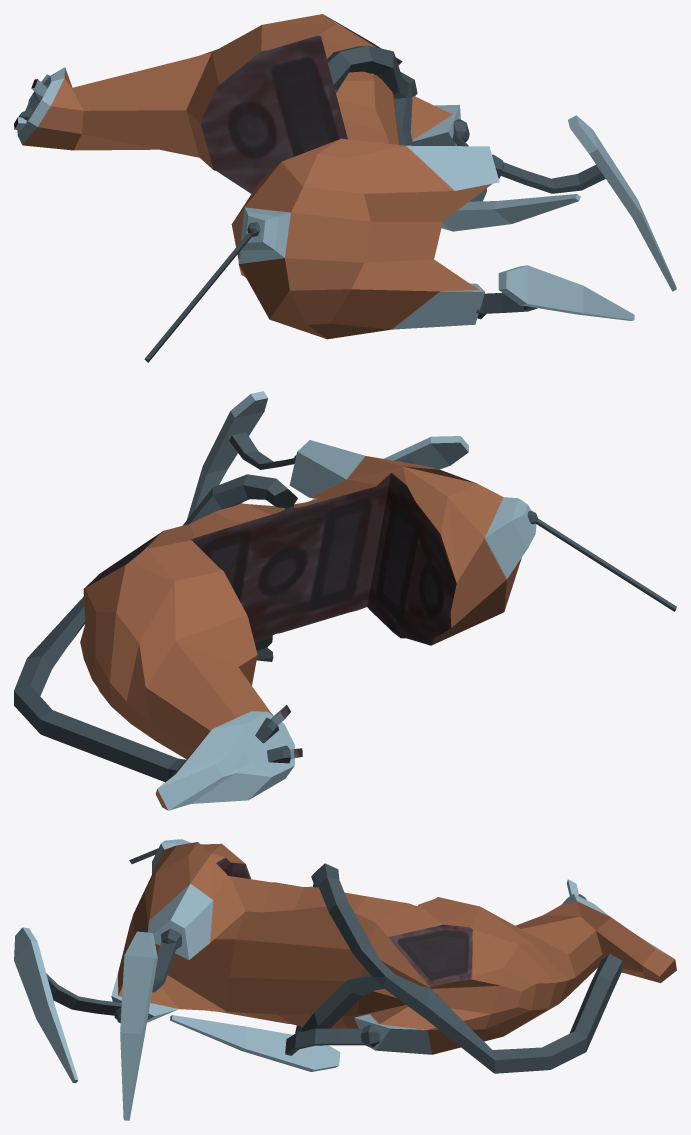
The model's file is Deer-dead-gutted.fbx.
The picture shows the model from 3 angles, top to bottom: view 1: azimuth 30°, elevation 25°; view 2: azimuth 150°, elevation 25°; view 3: azimuth 270°, elevation 25°; orthographic projection. The views are drawn at different scales.
Parts seen in each view (by area): view 1: Deer Dead Body; view 2: Deer Dead Body; view 3: Deer Dead Body.
Boxes of the visible parts, x1,y1,x2,y2 form: Deer Dead Body: (14, 14, 676, 362); Deer Dead Body: (14, 391, 676, 810); Deer Dead Body: (14, 839, 676, 1120).
Size of the model in its own units: 836 by 1087 by 312.
